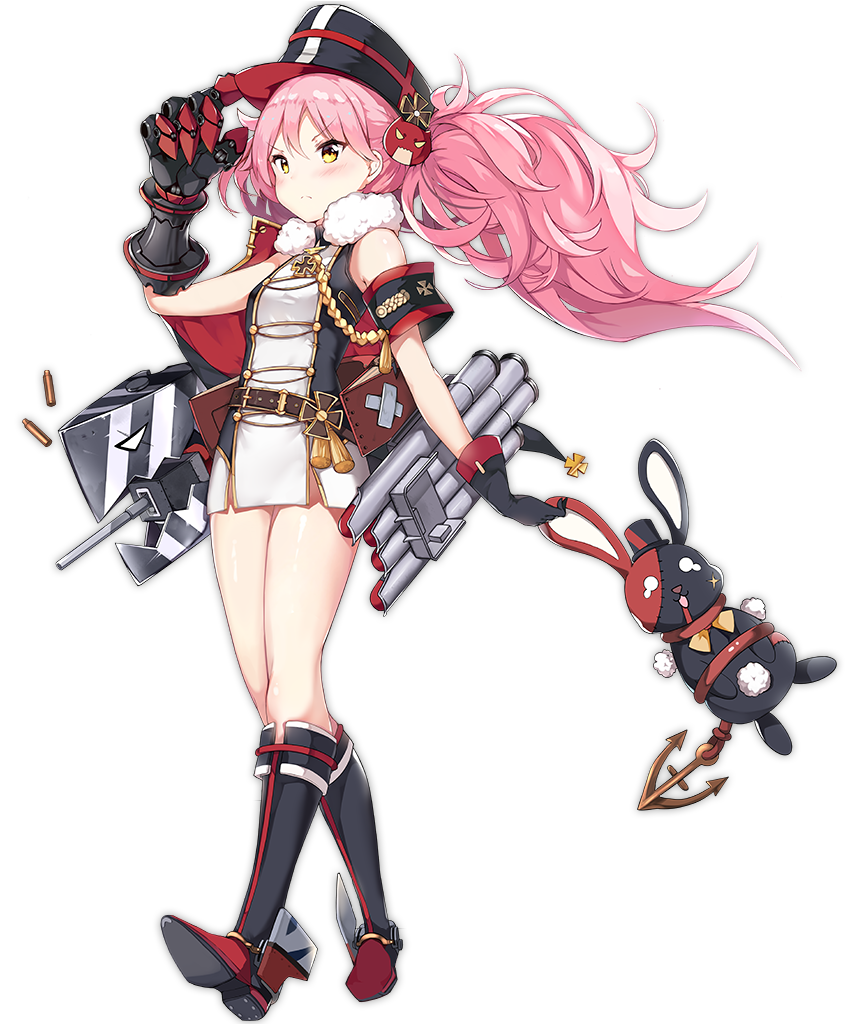person: (4, 1, 640, 882)
